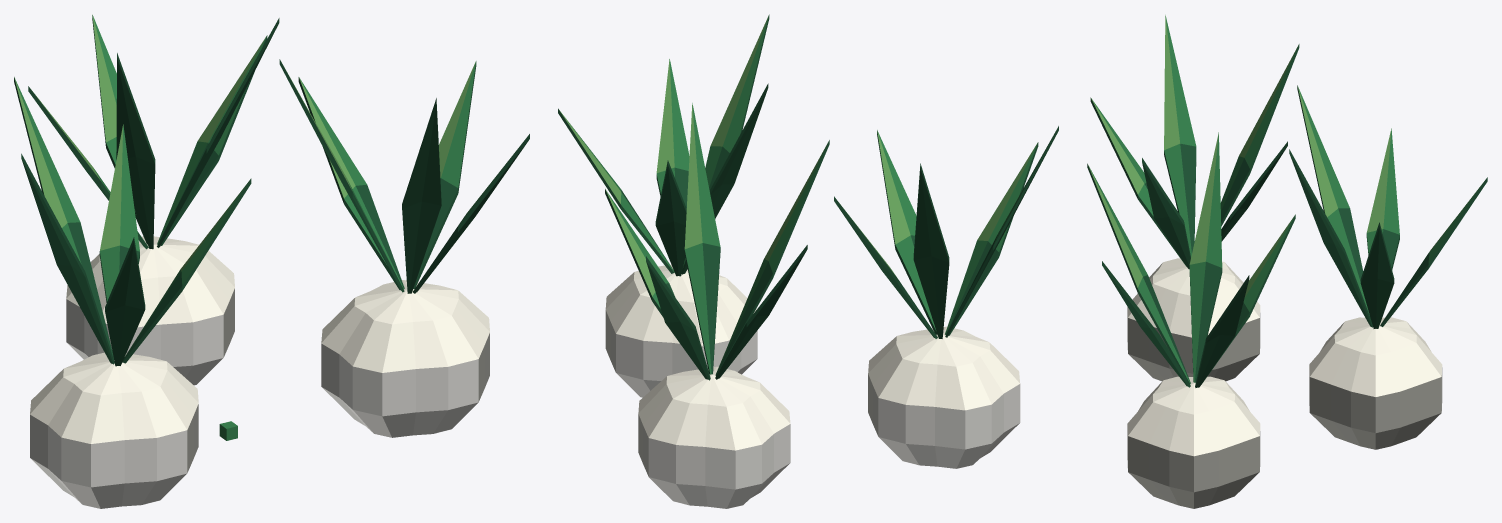
Rendered from garlic_stage_04.fbx.
The picture shows the model from 3 angles, left to right: view 1: azimuth 30°, elevation 25°; view 2: azimuth 150°, elevation 25°; view 3: azimuth 270°, elevation 25°; orthographic projection. The views are drawn at different scales.
Parts seen in each view (by area): view 1: garlic_stage_04; view 2: garlic_stage_04; view 3: garlic_stage_04.
Part boxes in pixels (x1=…): garlic_stage_04: x1=14, y1=14, x2=529, y2=508; garlic_stage_04: x1=558, y1=14, x2=1058, y2=508; garlic_stage_04: x1=1087, y1=15, x2=1487, y2=508.
Bounding box in the file's own units: 1.73 × 1.27 × 1.43.
1 material, 1 textured.
